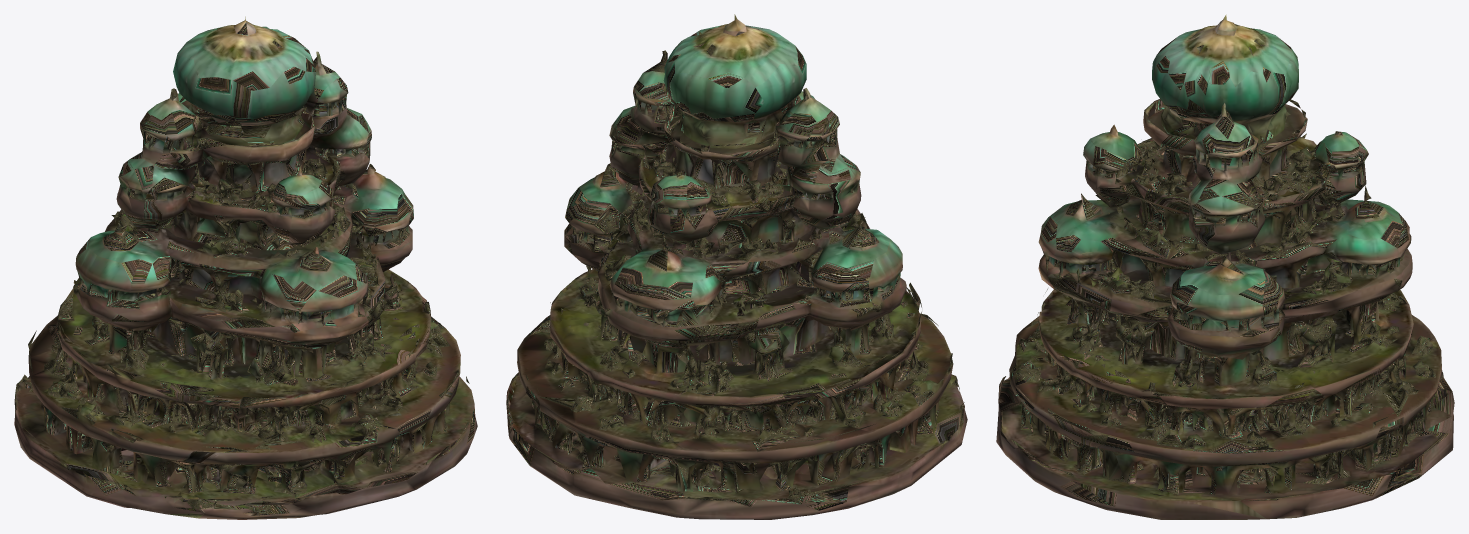
The model's file is Verdant_Palace.glb.
3 renders of one model, left to right at view 1: azimuth 30°, elevation 25°; view 2: azimuth 150°, elevation 25°; view 3: azimuth 270°, elevation 25°, orthographic.
Visible parts, largest first — view 1: Verdant_Palace; view 2: Verdant_Palace; view 3: Verdant_Palace.
Part boxes in pixels (x1,y1,x2,y2): Verdant_Palace: [14, 16, 477, 519]; Verdant_Palace: [506, 14, 967, 519]; Verdant_Palace: [996, 14, 1454, 519].
Size of the model in its own units: 1.97 by 1.97 by 1.98.
Materials: 1 (1 with a texture image).
